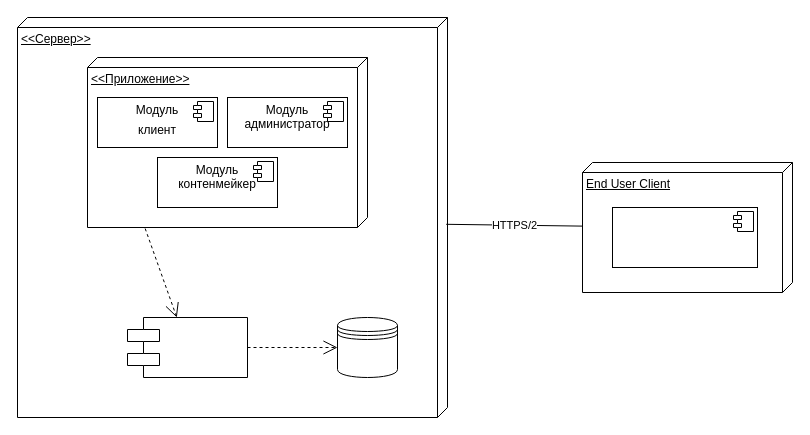
The diagram is 810 pixels wide and 435 high, and some of its shapes have lost their labels. Each missing label, with the centre of its shape:
"<<Component>> Browser" goes at [685,237].
"MySQL" goes at [367,347].
"СУБД" goes at [187,347].
